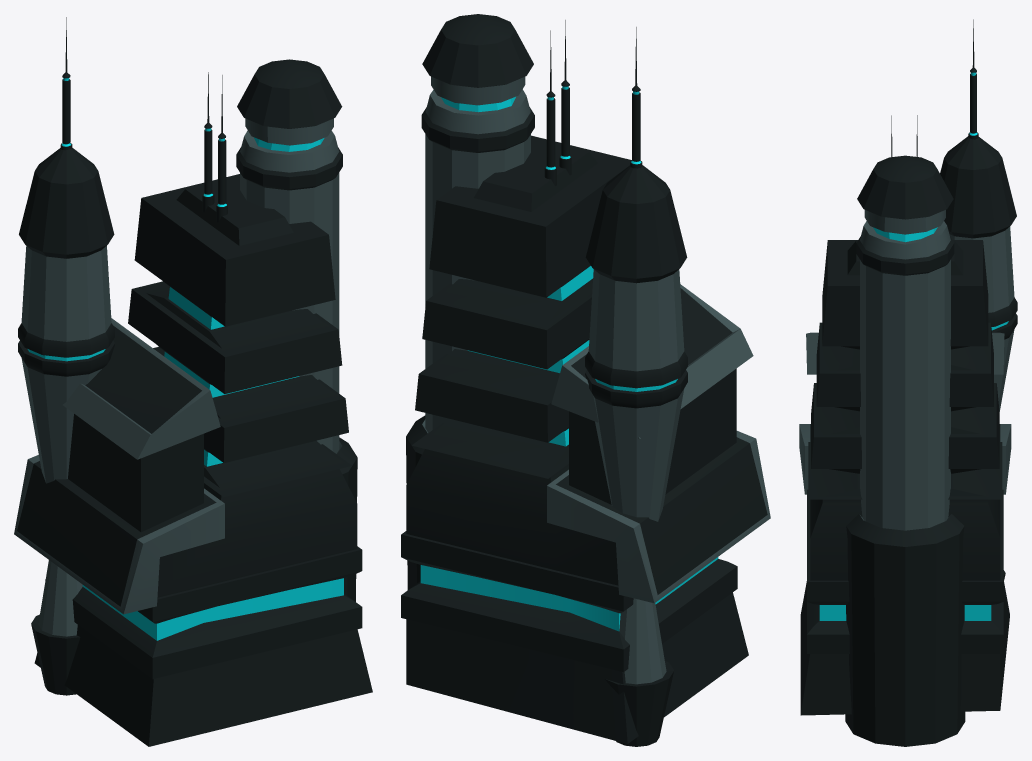
File: AlladinHouse.fbx
3 renders of one model, left to right at view 1: azimuth 30°, elevation 25°; view 2: azimuth 150°, elevation 25°; view 3: azimuth 270°, elevation 25°, orthographic. The views are drawn at different scales.
Visible parts, largest first — view 1: AlladinHouse; view 2: AlladinHouse; view 3: AlladinHouse.
Part boxes in pixels (bbox=[...]): AlladinHouse: bbox=[14, 17, 372, 746]; AlladinHouse: bbox=[401, 14, 770, 746]; AlladinHouse: bbox=[799, 19, 1017, 746].
Bounding box in the file's own units: 6.67 × 15.22 × 4.79.
